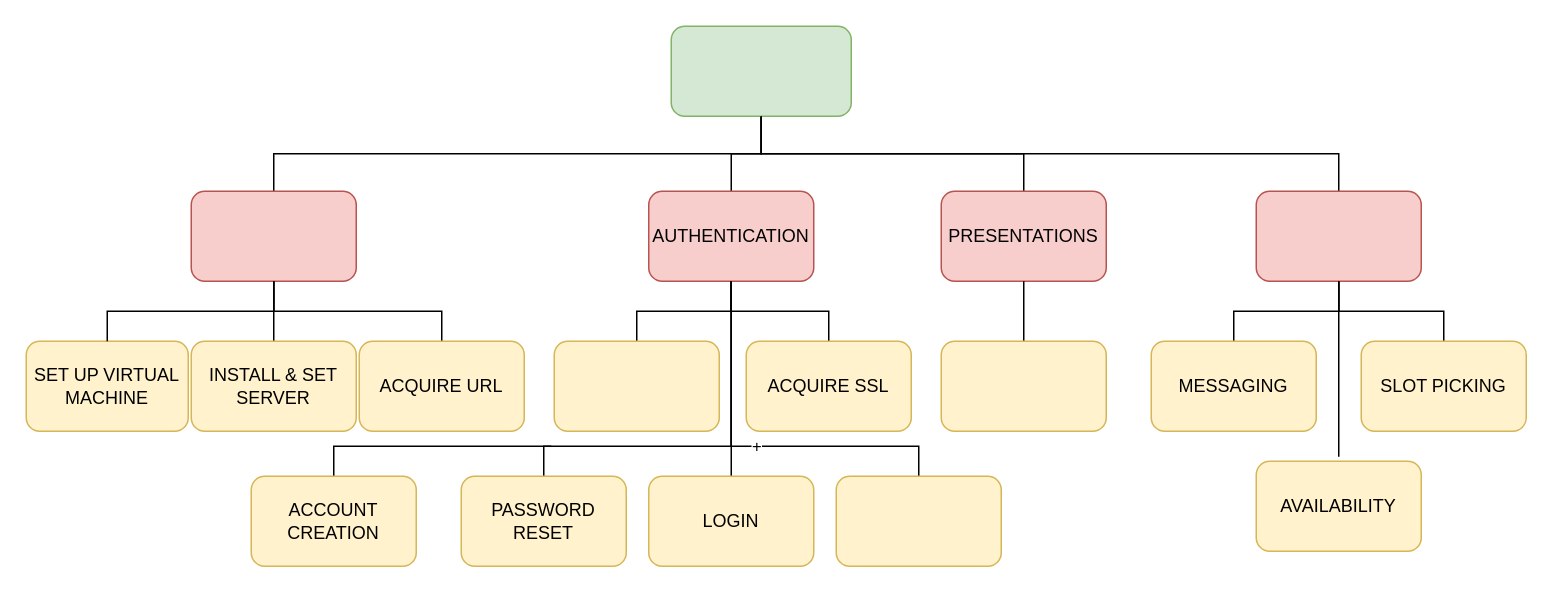
Image size: 1553x593. Some labels were removed from this diagram. The shapes that lost their labels are listed below. From the top down, each one's centre as x and y in pixels, then its label:
At (760,70): "FACULTY WEBSITE".
At (273,235): "HOSTING".
At (1338,235): "APPS".
At (636,385): "DEFINE MODELS".
At (1023,385): "INTEGRATE REVEAL JS".
At (918,520): "PASSWORD CHANGE".
